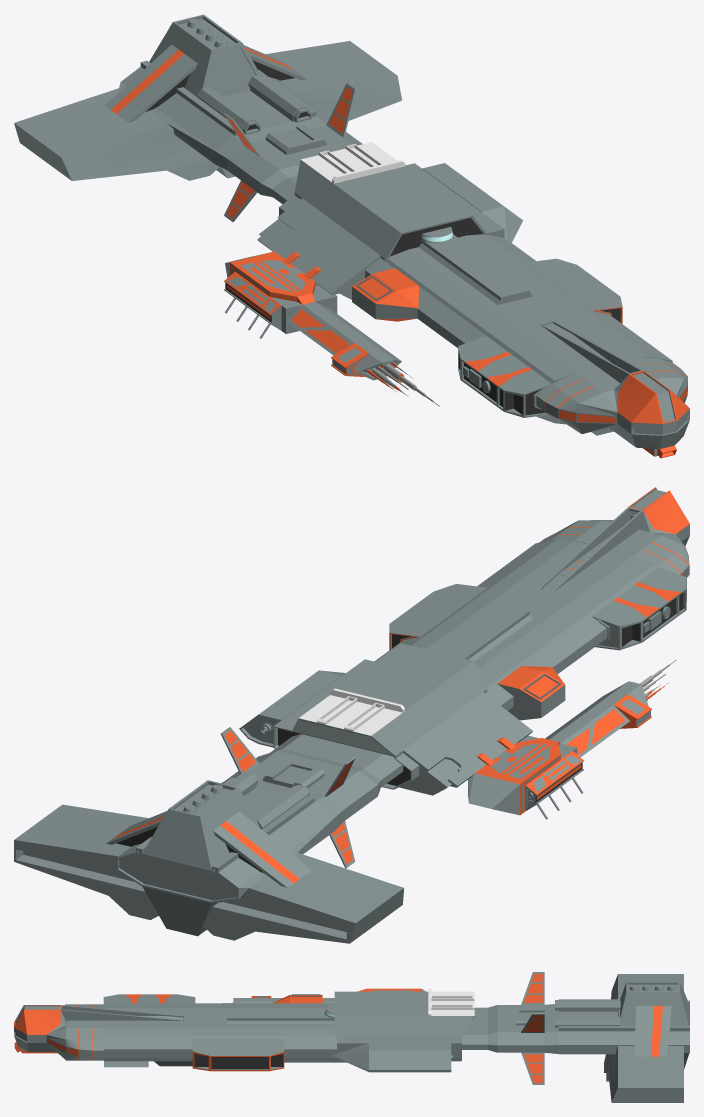
The model's file is ship1a.obj.
The picture shows the model from 3 angles, top to bottom: view 1: azimuth 30°, elevation 25°; view 2: azimuth 150°, elevation 25°; view 3: azimuth 270°, elevation 25°; orthographic projection. The views are drawn at different scales.
Parts seen in each view (by area): view 1: Layer0_001; view 2: Layer0_001; view 3: Layer0_001.
Boxes of the visible parts, x1,y1,x2,y2 form: Layer0_001: (14,14,689,458); Layer0_001: (14,487,689,943); Layer0_001: (14,972,689,1102).
Bounding box in the file's own units: 200 × 66.92 × 501.
